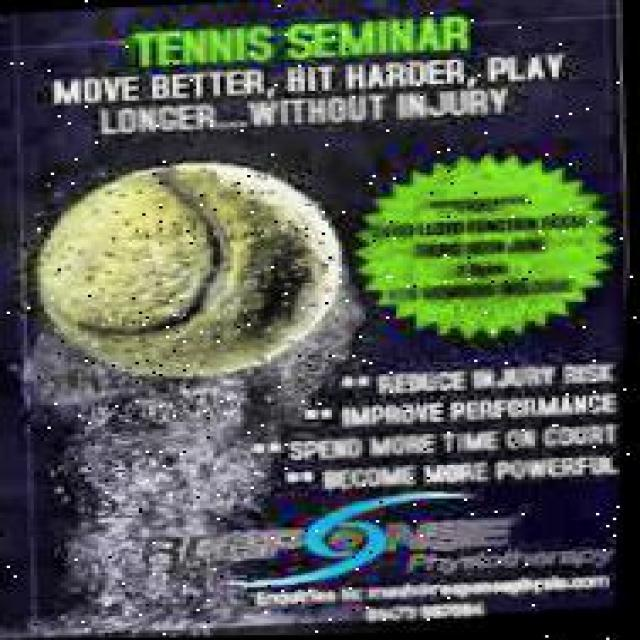tennis-ball: (27, 157, 362, 387)
